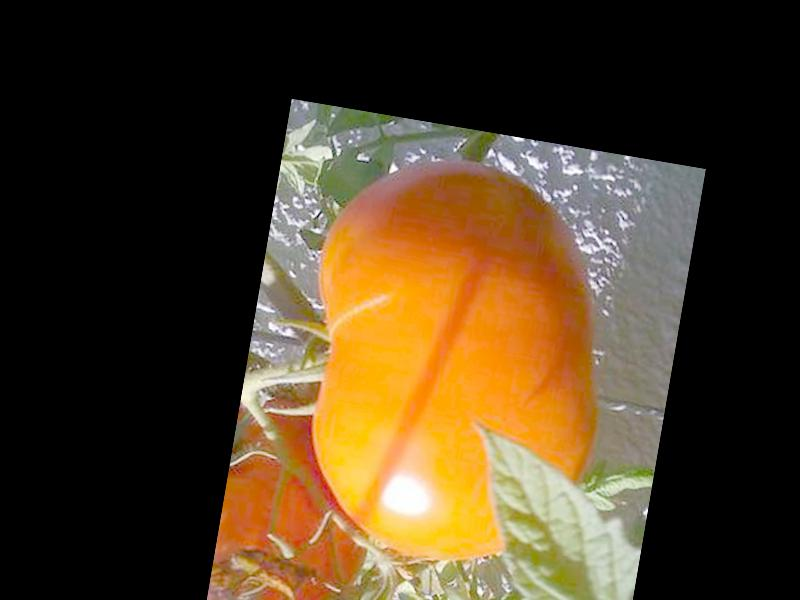Tomato: (273, 141, 635, 584)
